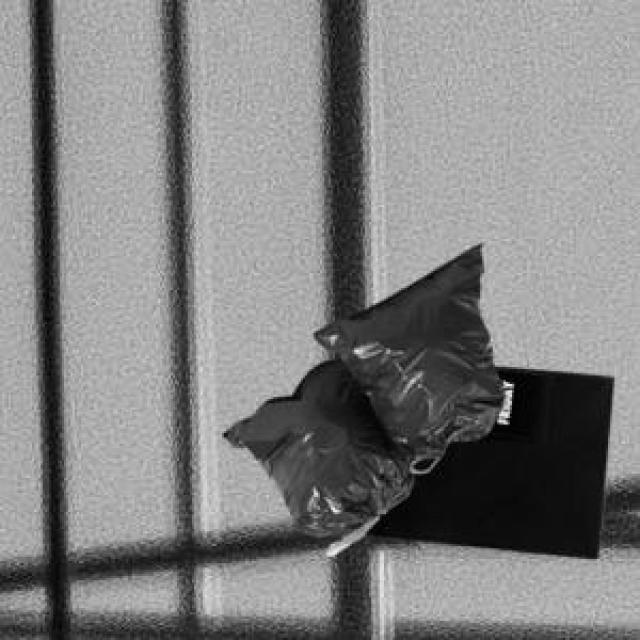miscellaneous trash: (220, 241, 501, 553)
paper: (361, 363, 610, 555)
